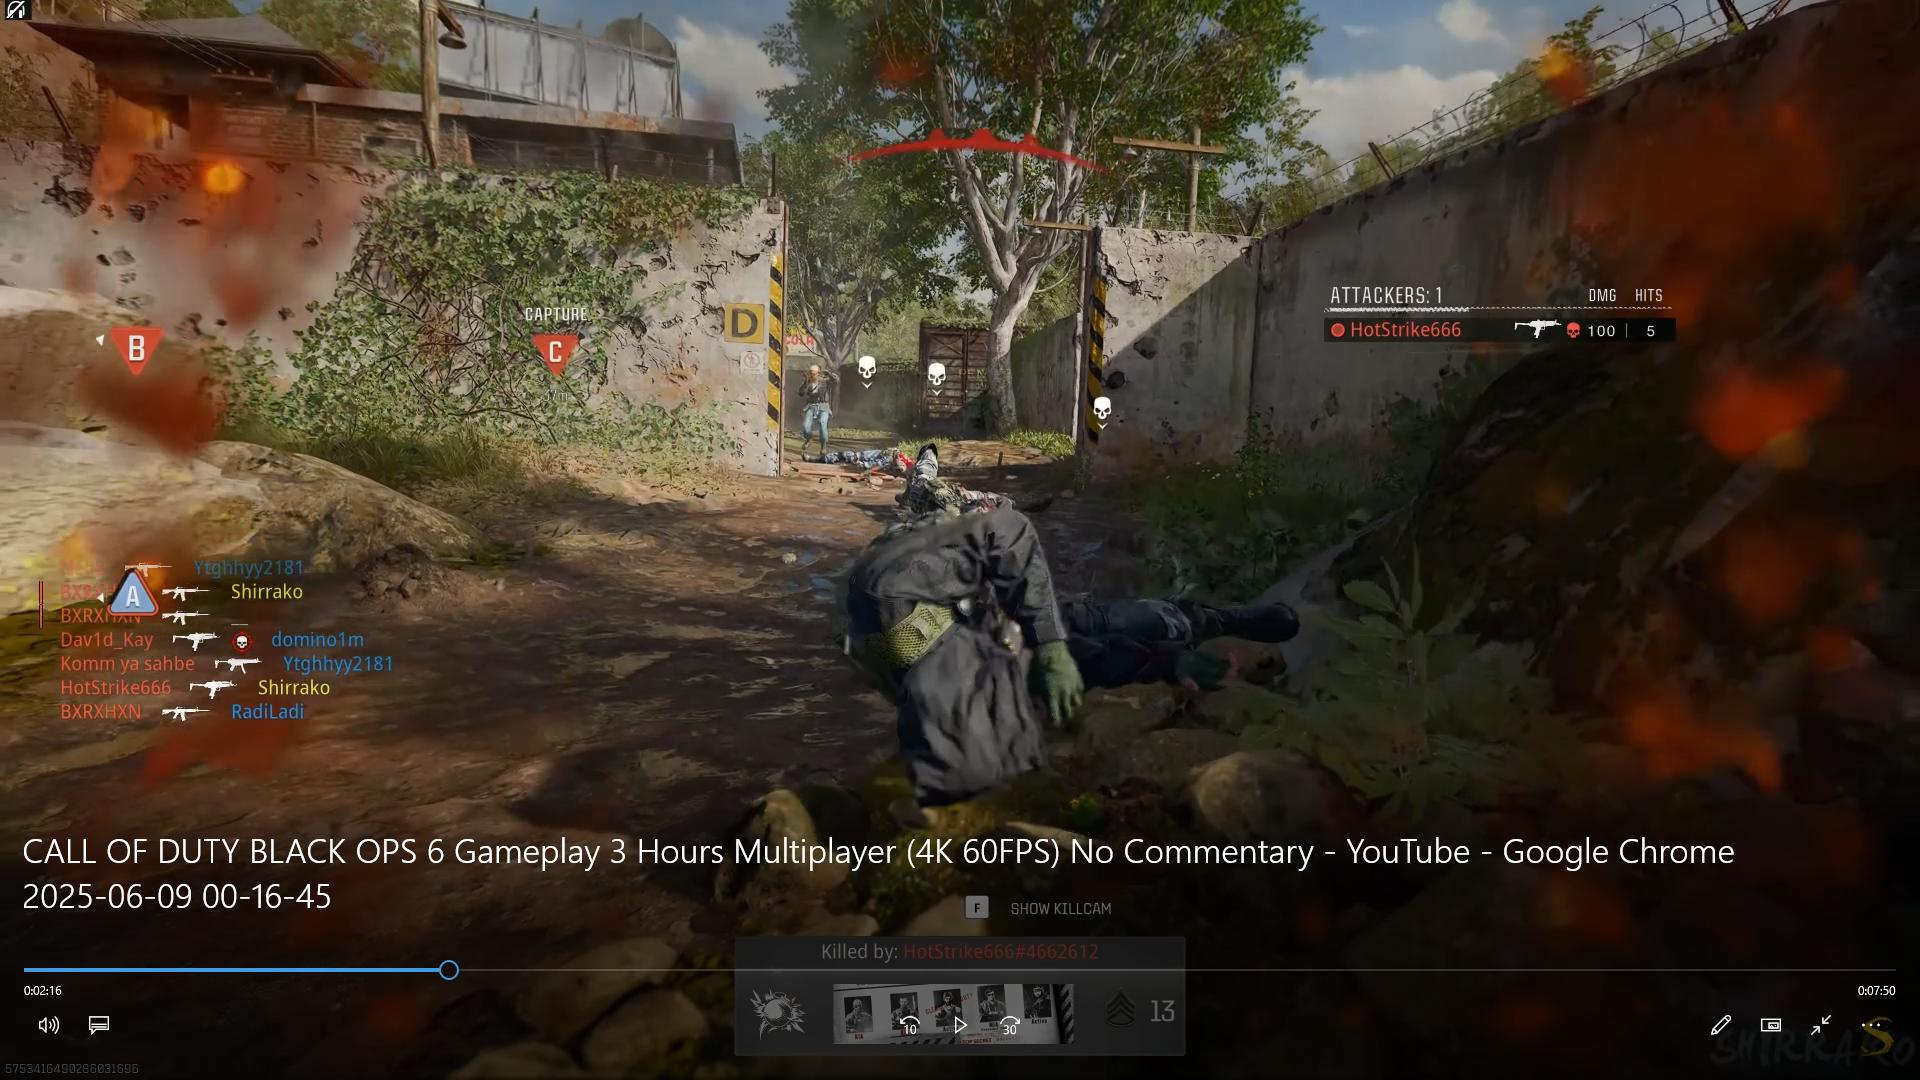Enemy: (795, 359, 833, 451)
